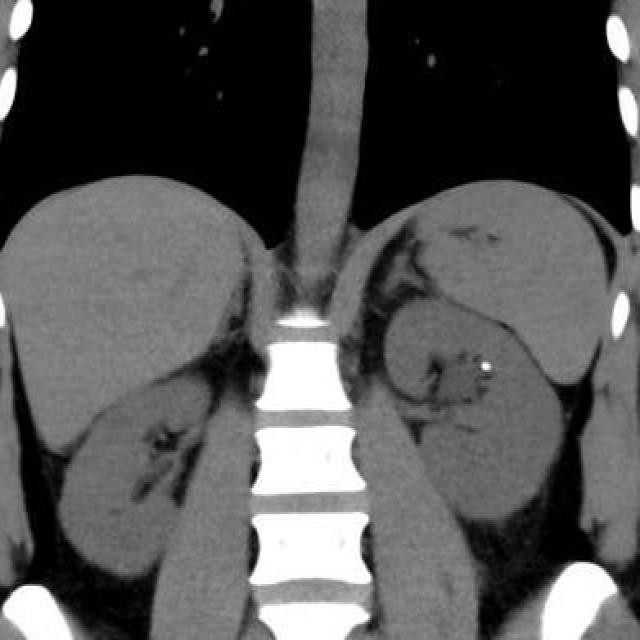Tas_Var: (480, 358, 492, 378)
